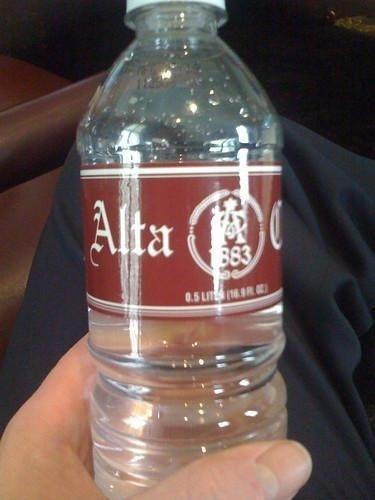bottle-plastic: (73, 1, 287, 497)
